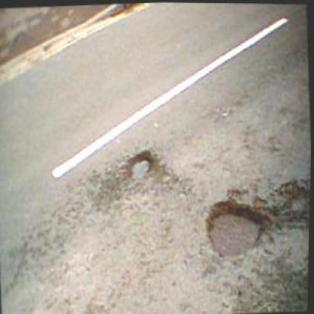Hueco: (204, 194, 266, 260), (125, 144, 156, 184)
